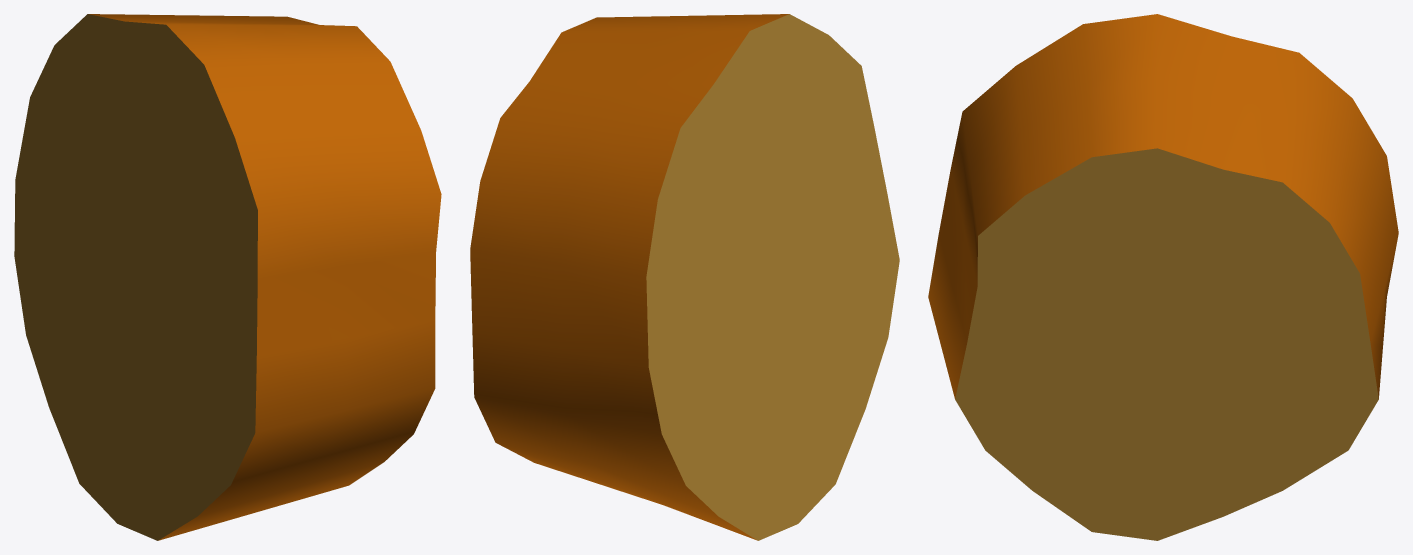
Rendered from mesh_CarrotSlice_Stage09.fbx.
The picture shows the model from 3 angles, left to right: view 1: azimuth 30°, elevation 25°; view 2: azimuth 150°, elevation 25°; view 3: azimuth 270°, elevation 25°; orthographic projection. The views are drawn at different scales.
Parts seen in each view (by area): view 1: mesh_CarrotSlice_Stage09; view 2: mesh_CarrotSlice_Stage09; view 3: mesh_CarrotSlice_Stage09.
Part boxes in pixels (x1=…): mesh_CarrotSlice_Stage09: x1=14, y1=14, x2=441, y2=540; mesh_CarrotSlice_Stage09: x1=470, y1=14, x2=899, y2=540; mesh_CarrotSlice_Stage09: x1=928, y1=14, x2=1398, y2=540.
Size of the model in its own units: 0.0231 by 0.0448 by 0.0412.
